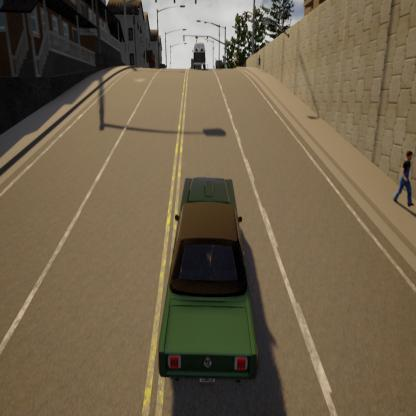Cars: (150, 168, 262, 391), (191, 42, 208, 72)
Pedestrian: (379, 148, 416, 217), (256, 52, 263, 73)
